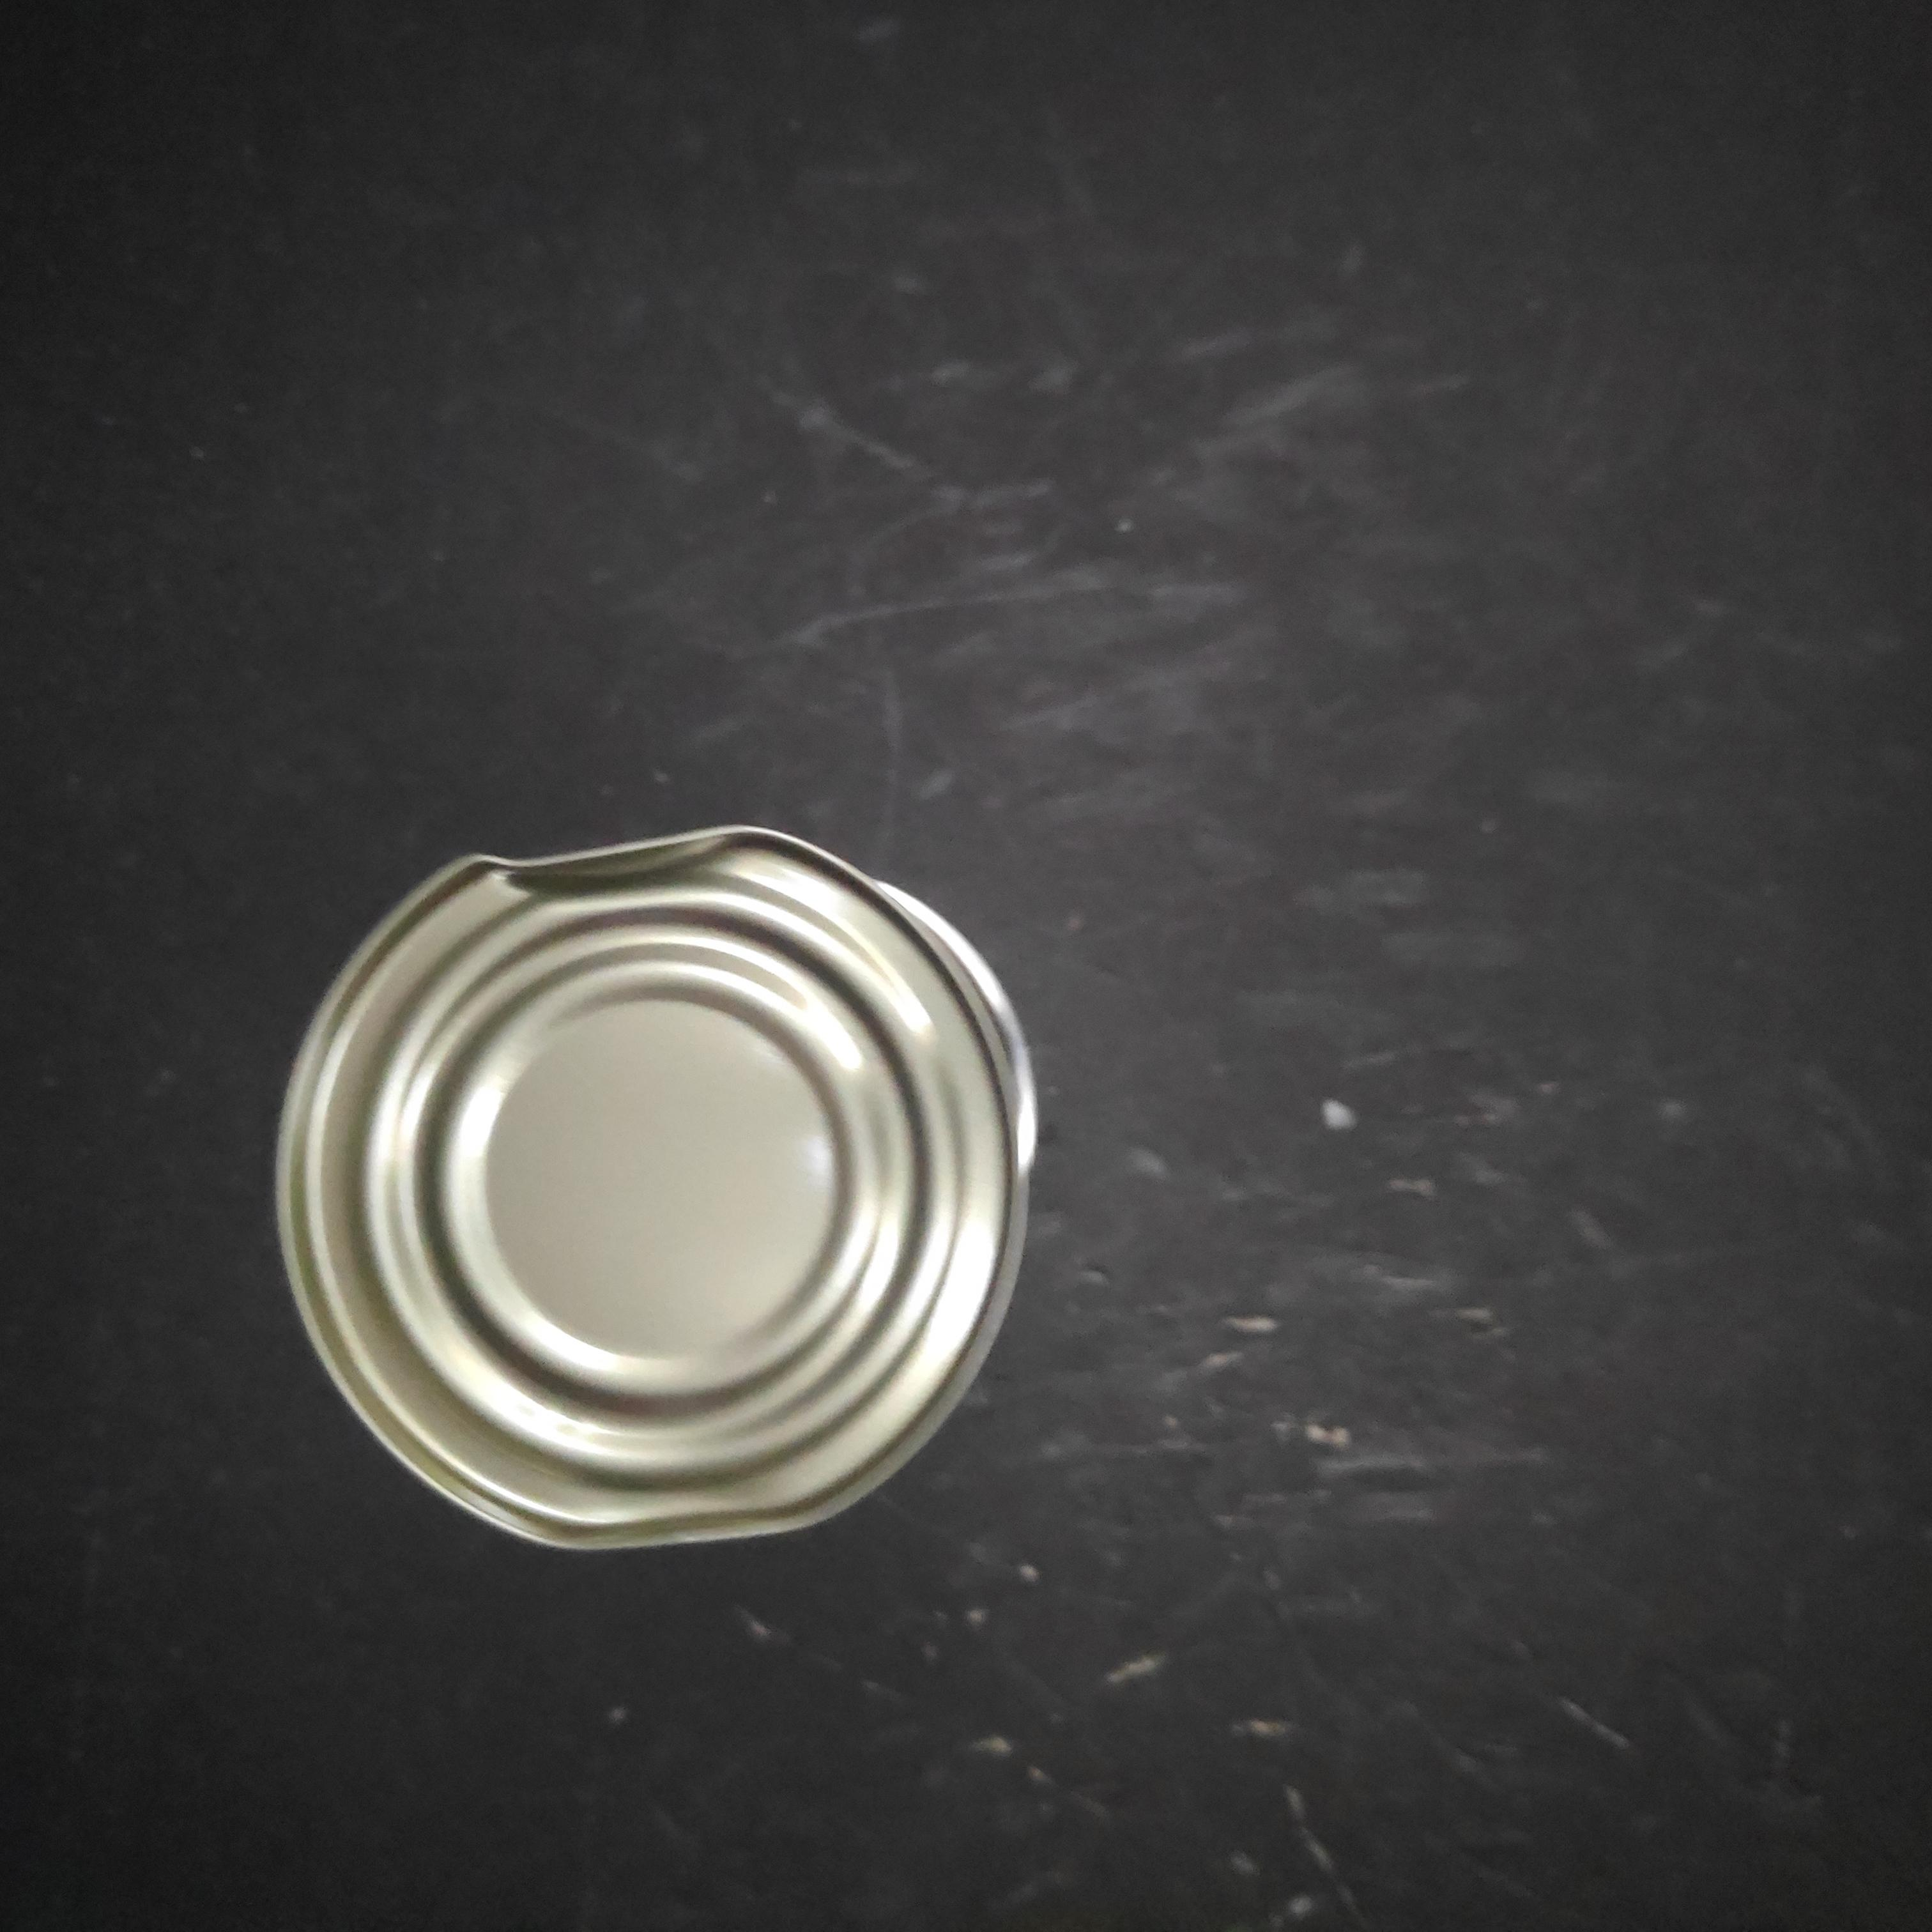Minor Defect: (892, 359, 1681, 1159)
